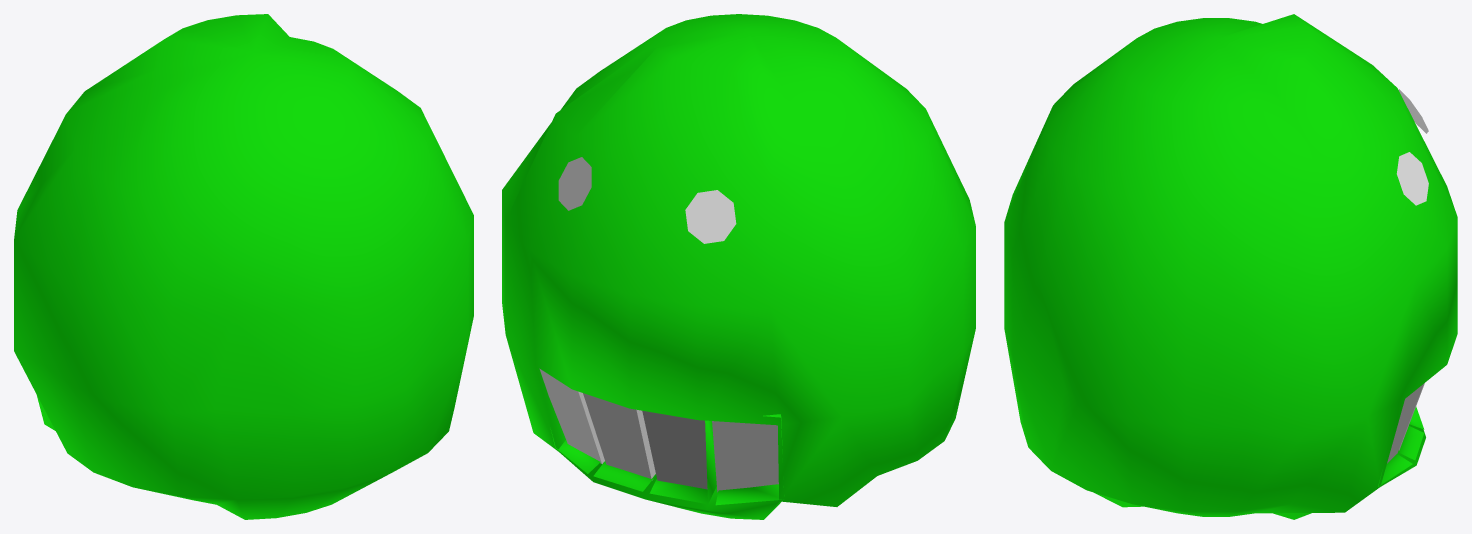
The model's file is monster01.glb.
3 views of the same model, side by side, from view 1: azimuth 30°, elevation 25°; view 2: azimuth 150°, elevation 25°; view 3: azimuth 270°, elevation 25° (orthographic). The views are drawn at different scales.
Visible parts, largest first — view 1: Body; view 2: Body; view 3: Body.
Boxes of the visible parts, x1=… form: Body: x1=14, y1=14, x2=473, y2=519; Body: x1=502, y1=14, x2=975, y2=519; Body: x1=1004, y1=14, x2=1457, y2=519.
Size of the model in its own units: 0.7547 by 0.8003 by 0.7194.
